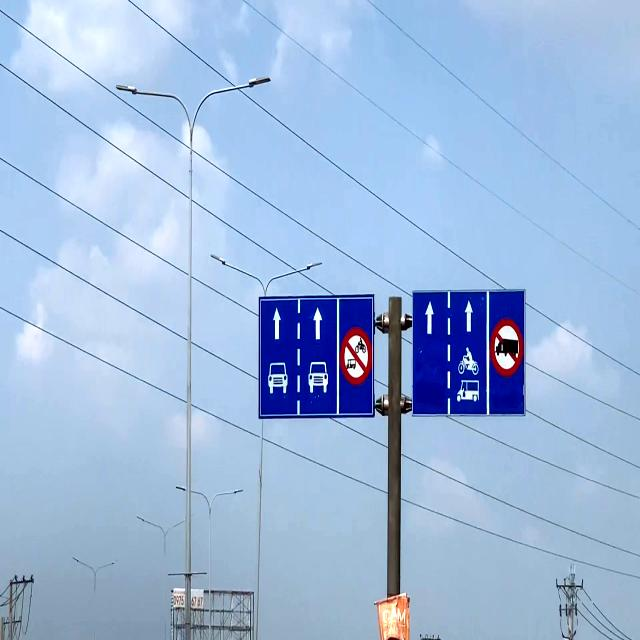P.106a: (488, 316, 523, 378)
